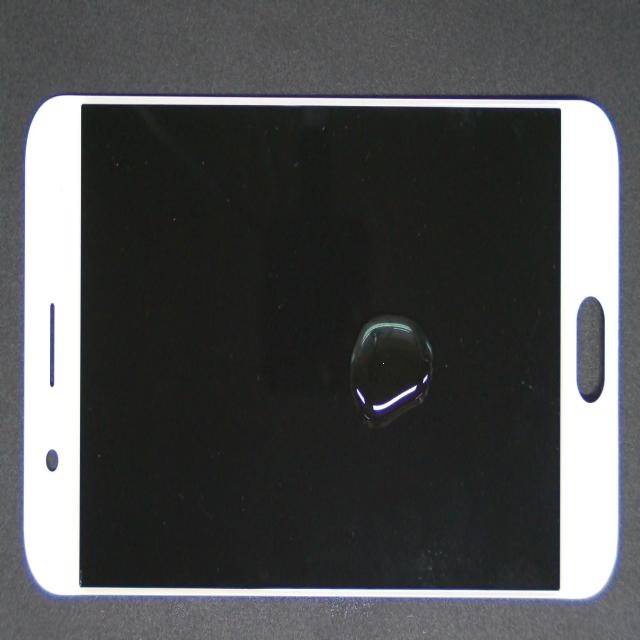oil: (224, 162, 583, 486)
